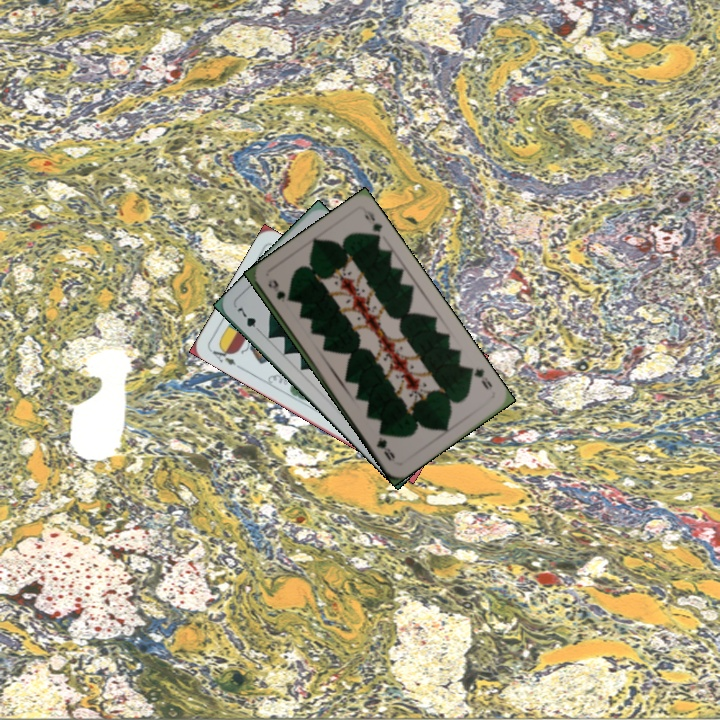EA: (207, 342, 239, 368)
G7: (233, 303, 264, 336)
G9: (464, 363, 495, 392), (264, 276, 292, 306)
